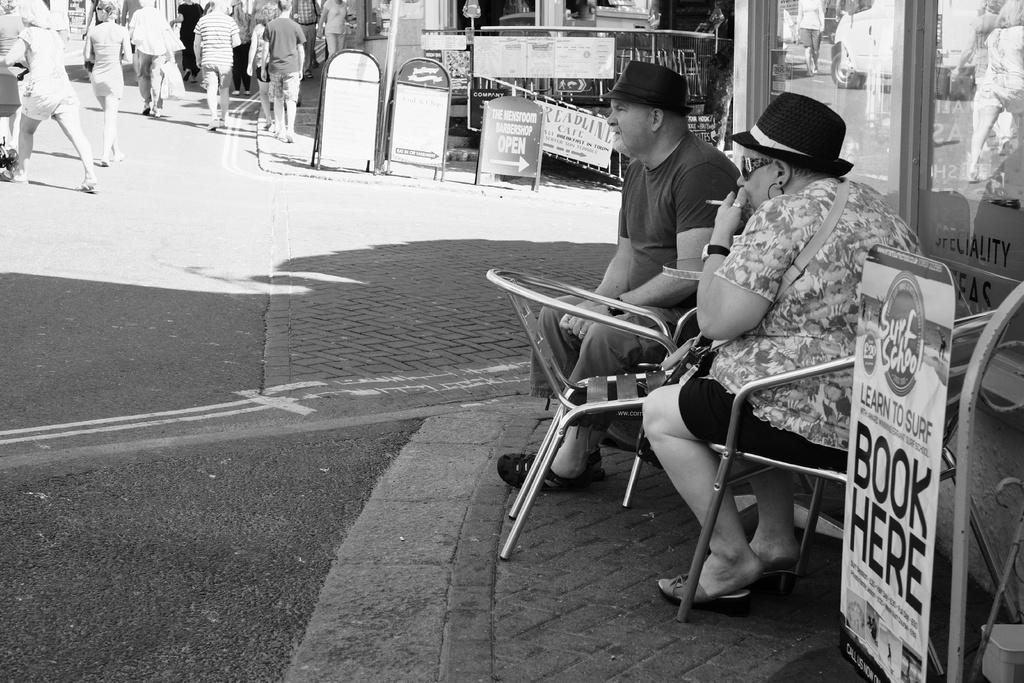Hat: (728, 94, 854, 177), (598, 57, 690, 118)
